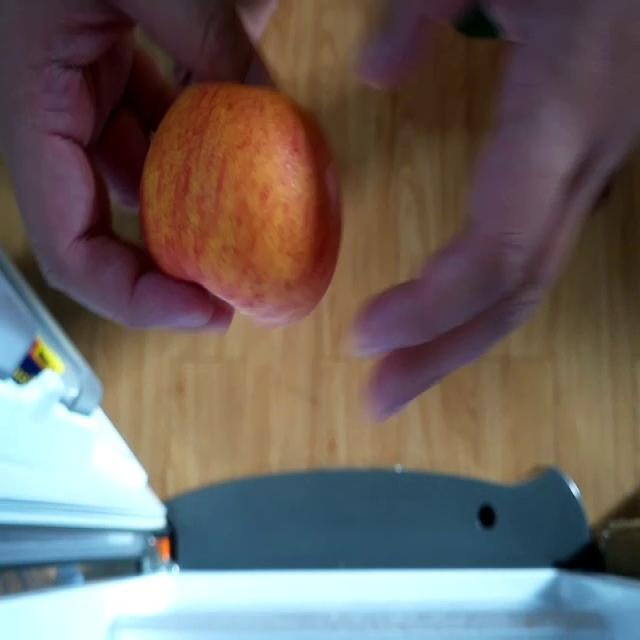apple: (144, 84, 344, 317)
